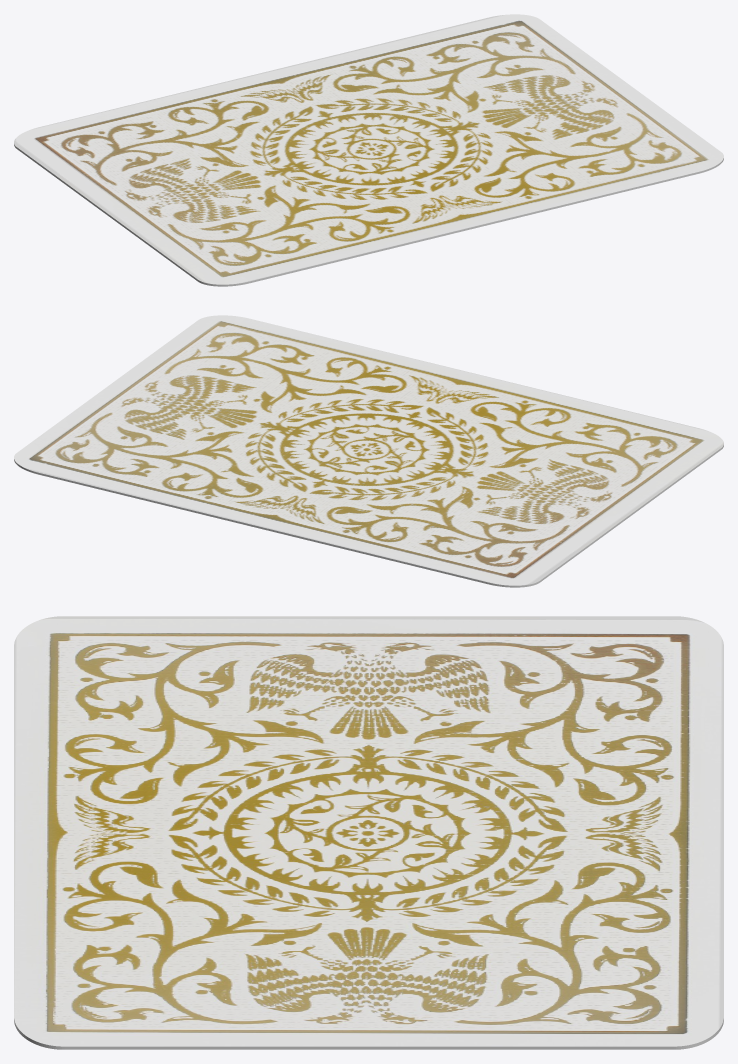
File: card_diamonds_8.glb
The picture shows the model from 3 angles, top to bottom: view 1: azimuth 30°, elevation 25°; view 2: azimuth 150°, elevation 25°; view 3: azimuth 270°, elevation 25°; orthographic projection. The views are drawn at different scales.
Parts seen in each view (by area): view 1: Plane; view 2: Plane; view 3: Plane.
Boxes of the visible parts, box(x1,y1,x2,y2) form: Plane: box(14, 14, 723, 286); Plane: box(14, 315, 723, 587); Plane: box(14, 616, 723, 1049).
Bounding box in the file's own units: 0.089 × 0.000311 × 0.0621.
Materials: 2 (2 with a texture image).
